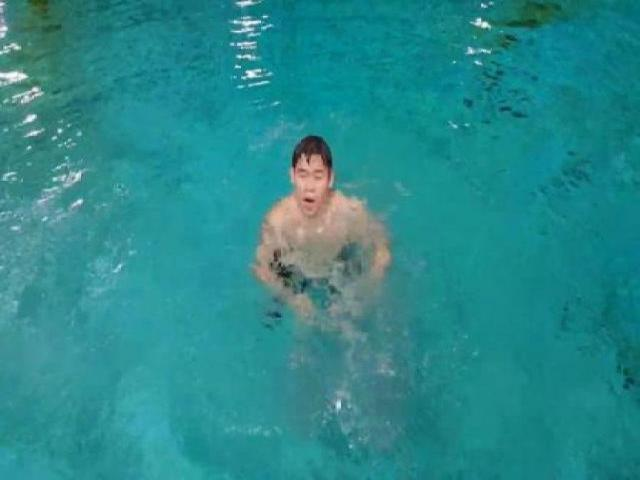swimming: (245, 135, 388, 323)
